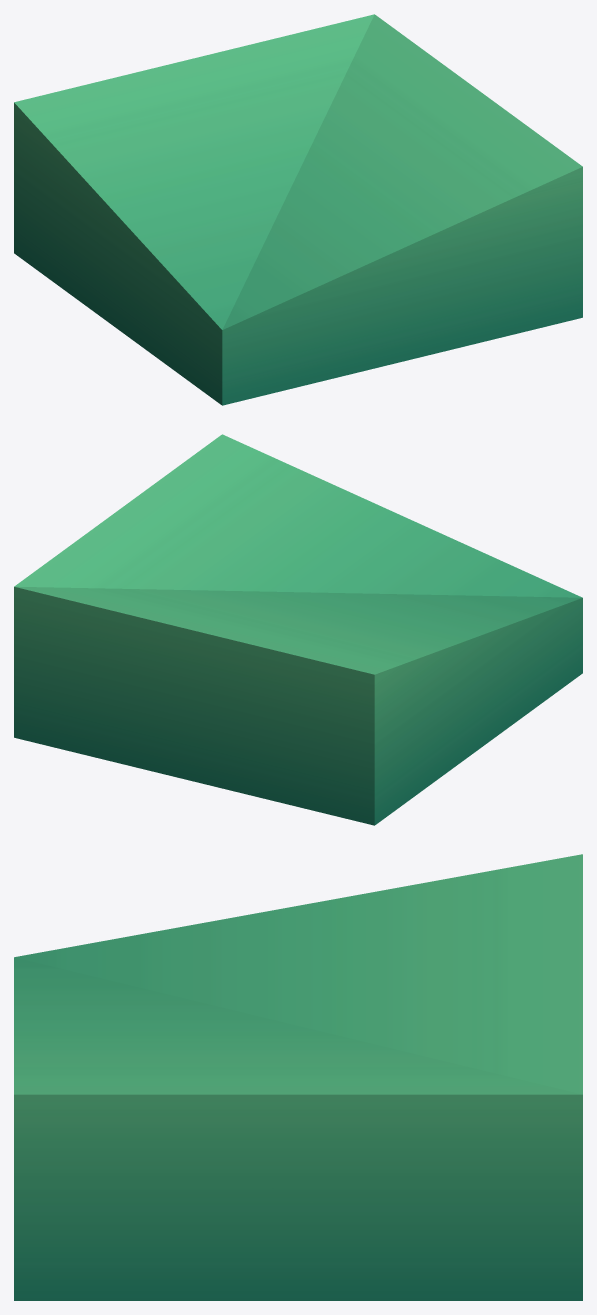
File: kenney-tower-defense-tile-corner-inner.glb
3 renders of one model, top to bottom at view 1: azimuth 30°, elevation 25°; view 2: azimuth 150°, elevation 25°; view 3: azimuth 270°, elevation 25°, orthographic. The views are drawn at different scales.
Parts seen in each view (by area): view 1: tile-corner-inner; view 2: tile-corner-inner; view 3: tile-corner-inner.
Boxes of the visible parts, x1=… form: tile-corner-inner: x1=14, y1=14, x2=582, y2=405; tile-corner-inner: x1=14, y1=434, x2=582, y2=825; tile-corner-inner: x1=14, y1=854, x2=582, y2=1300.
Size of the model in its own units: 1 by 0.3999 by 1.
Materials: 1 (1 with a texture image).
